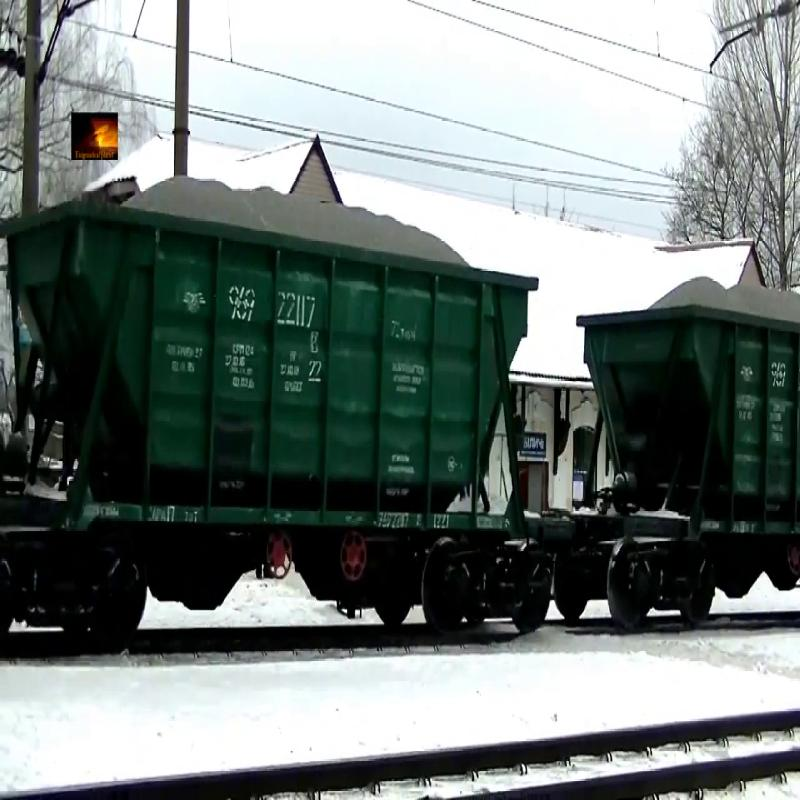train: (1, 162, 542, 654), (567, 234, 799, 640)
